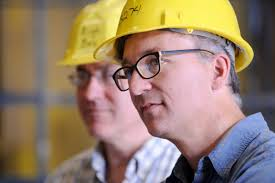Person_wearing_helmet: (101, 0, 256, 95)
